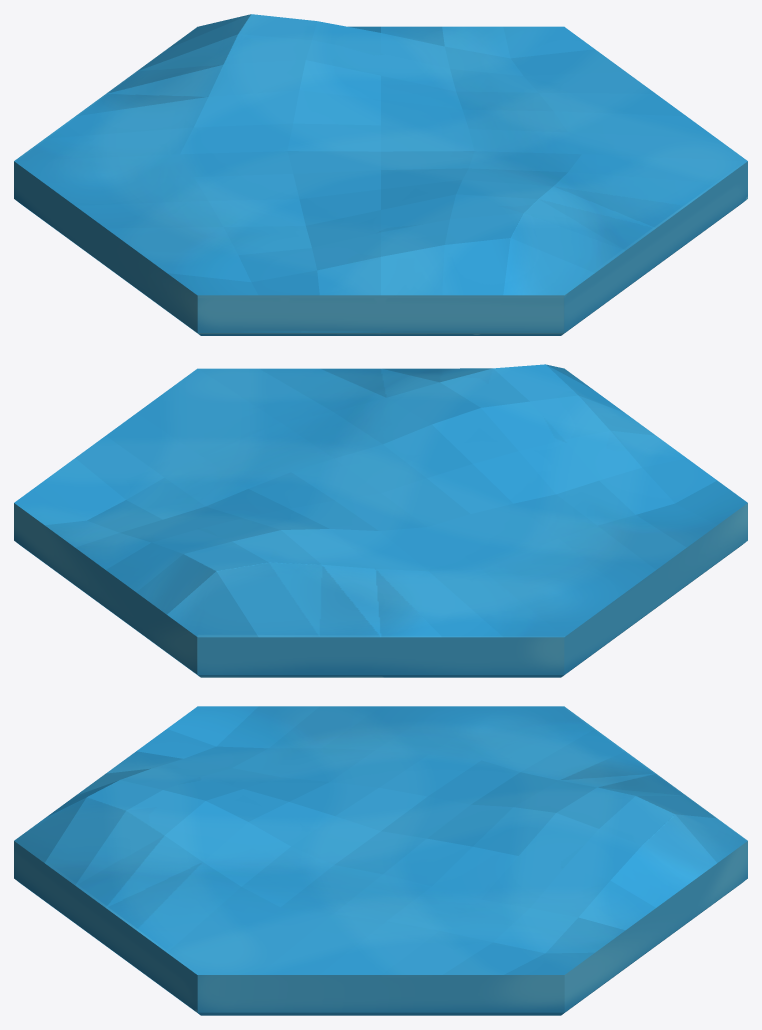
File: ocean.glb
3 views of the same model, one above another, from view 1: azimuth 30°, elevation 25°; view 2: azimuth 150°, elevation 25°; view 3: azimuth 270°, elevation 25° (orthographic).
Visible parts, largest first — view 1: Cylinder; view 2: Cylinder; view 3: Cylinder.
Boxes of the visible parts, x1,y1,x2,y2 form: Cylinder: [14, 14, 747, 335]; Cylinder: [14, 364, 747, 677]; Cylinder: [14, 706, 747, 1015].
Bounding box in the file's own units: 1.73 × 0.2413 × 2.
1 material, 1 textured.
